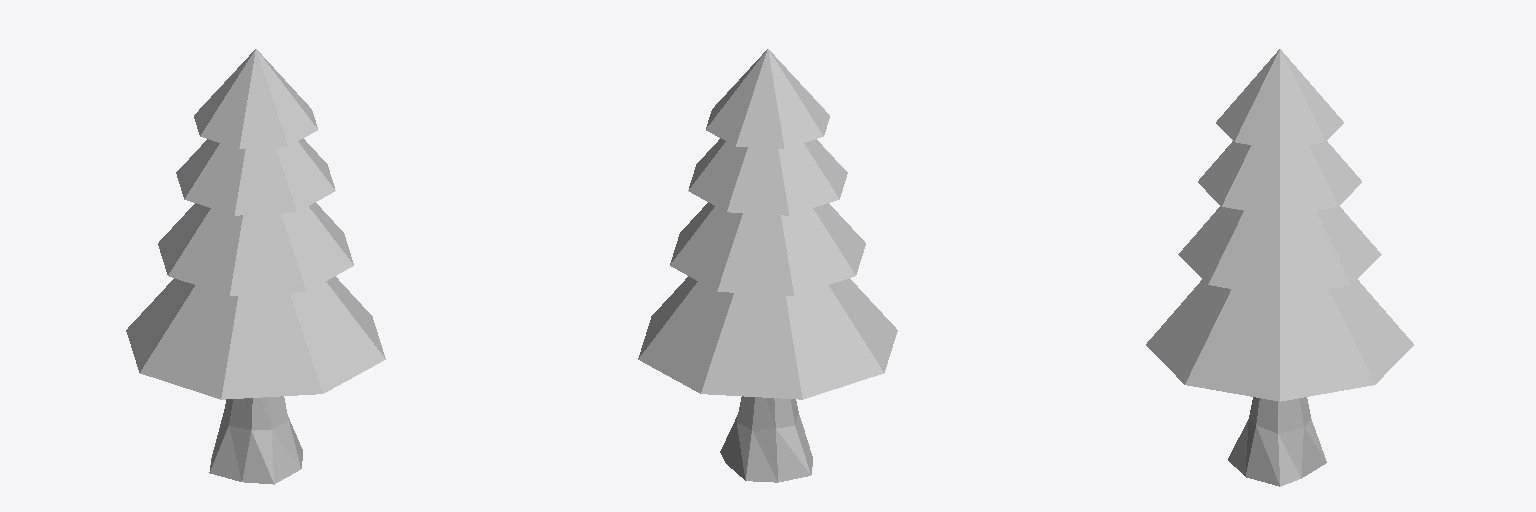
File: Tree3.obj
3 views of the same model, side by side, from view 1: azimuth 30°, elevation 25°; view 2: azimuth 150°, elevation 25°; view 3: azimuth 270°, elevation 25° (orthographic).
Visible parts, largest first — view 1: Tree; view 2: Tree; view 3: Tree.
Part boxes in pixels (x1,y1,x2,y2): Tree: (126, 49, 385, 484); Tree: (638, 49, 897, 482); Tree: (1146, 49, 1413, 486).
Bounding box in the file's own units: 1.98 × 3.36 × 1.98.